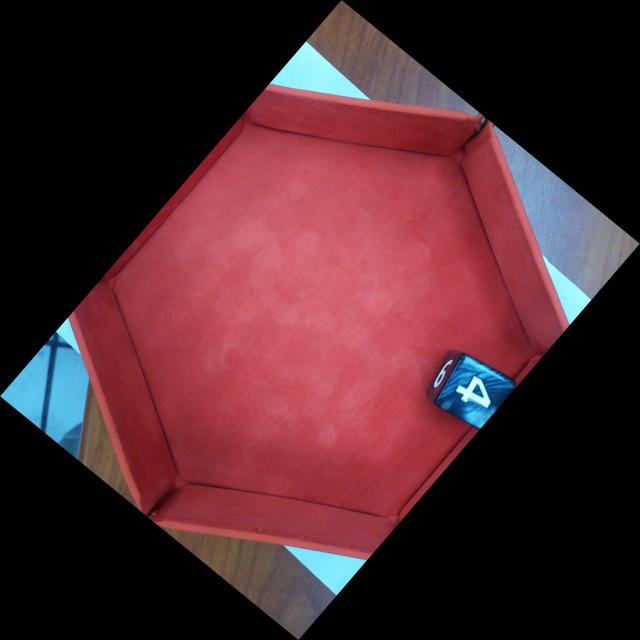dice: (433, 349, 517, 431)
